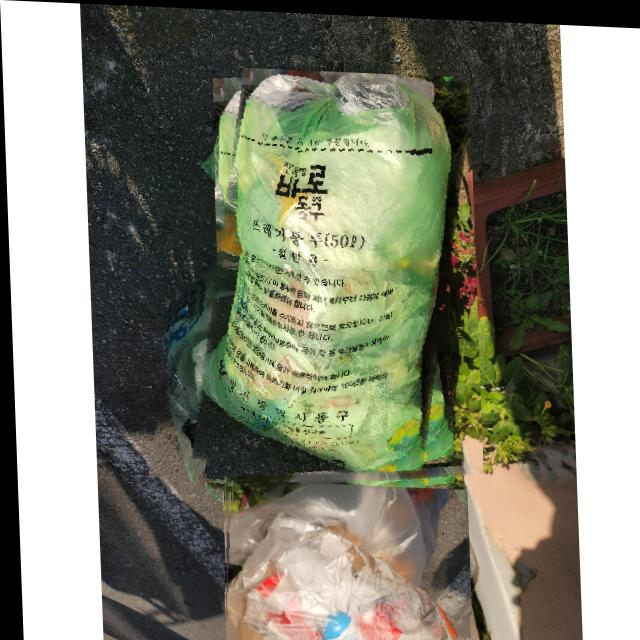general_trashbag: (189, 66, 469, 479), (145, 246, 273, 487)
other_trashbag: (222, 479, 466, 640)
